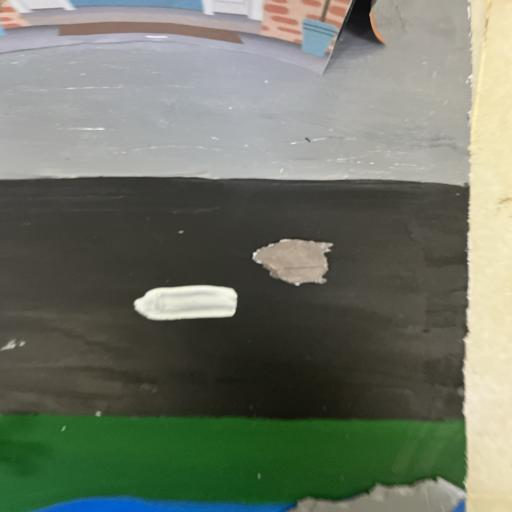encroachment: (284, 475, 465, 512)
porthole: (247, 236, 339, 288)
